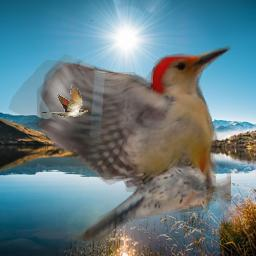Cuckoo: (40, 84, 88, 117)
Woodpecker: (6, 43, 231, 241)
